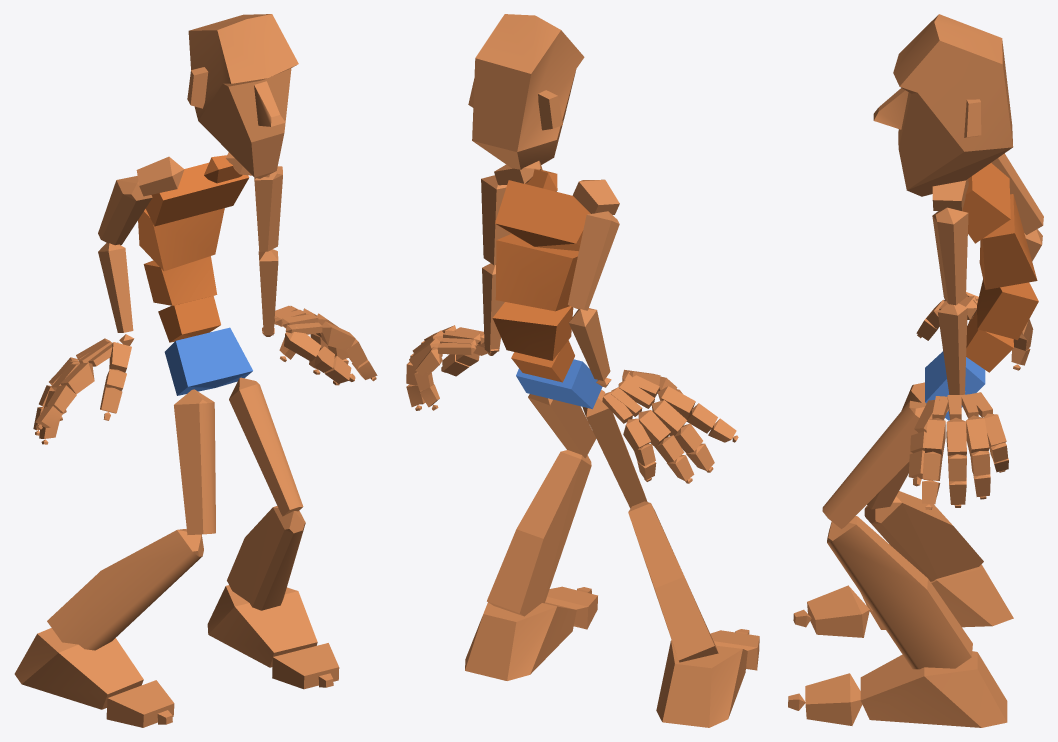
The model's file is personaje35.obj.
3 views of the same model, side by side, from view 1: azimuth 30°, elevation 25°; view 2: azimuth 150°, elevation 25°; view 3: azimuth 270°, elevation 25° (orthographic). The views are drawn at different scales.
Parts seen in each view (by area): view 1: BOPED_Head, BOPED_R_leg, BOPED_R_foot, BOPED_R_foot01, BOPED_L_leg, BOPED_R_legup, BOPED_L_legup, Bone01, Bone04, Bone05, Bone03, BOPED_R_arm_upper (+11 smaller); view 2: BOPED_Head, BOPED_L_leg, BOPED_R_foot01, BOPED_R_foot, BOPED_R_leg, Bone04, Bone05, Bone03, BOPED_R_arm_upper, BOPED_R_legup, Bone01, BOPED_L_legup (+12 smaller); view 3: BOPED_Head, BOPED_L_leg, BOPED_R_foot01, BOPED_R_leg, BOPED_L_legup, BOPED_R_foot, Bone04, Bone05, BOPED_L_arm_upper, Bone03, BOPED_R_foot_toe01, BOPED_R_foot_toe04 (+13 smaller).
Part boxes in pixels (x1=…): BOPED_Head: x1=187, y1=14, x2=298, y2=178; BOPED_R_leg: x1=47, y1=529, x2=203, y2=650; BOPED_R_foot: x1=14, y1=628, x2=143, y2=709; BOPED_R_foot01: x1=207, y1=585, x2=317, y2=667; BOPED_L_leg: x1=227, y1=506, x2=305, y2=610; BOPED_R_legup: x1=174, y1=389, x2=215, y2=534; BOPED_L_legup: x1=229, y1=377, x2=303, y2=516; Bone01: x1=164, y1=327, x2=252, y2=395; Bone04: x1=138, y1=208, x2=224, y2=271; Bone05: x1=145, y1=162, x2=249, y2=226; Bone03: x1=143, y1=256, x2=217, y2=305; BOPED_R_arm_upper: x1=98, y1=176, x2=152, y2=245; BOPED_Head: x1=468, y1=14, x2=584, y2=169; BOPED_L_leg: x1=487, y1=450, x2=591, y2=616; BOPED_R_foot01: x1=465, y1=602, x2=576, y2=680; BOPED_R_foot: x1=656, y1=640, x2=747, y2=727; BOPED_R_leg: x1=628, y1=501, x2=718, y2=662; Bone04: x1=495, y1=234, x2=578, y2=311; Bone05: x1=495, y1=180, x2=590, y2=251; Bone03: x1=492, y1=302, x2=573, y2=360; BOPED_R_arm_upper: x1=568, y1=211, x2=619, y2=310; BOPED_R_legup: x1=582, y1=390, x2=647, y2=508; Bone01: x1=516, y1=359, x2=602, y2=409; BOPED_L_legup: x1=528, y1=394, x2=596, y2=458; BOPED_Head: x1=873, y1=14, x2=1013, y2=196; BOPED_L_leg: x1=827, y1=516, x2=972, y2=669; BOPED_R_foot01: x1=860, y1=651, x2=1007, y2=727; BOPED_R_leg: x1=864, y1=491, x2=983, y2=581; BOPED_L_legup: x1=822, y1=400, x2=926, y2=528; BOPED_R_foot: x1=860, y1=564, x2=1013, y2=629; Bone04: x1=979, y1=194, x2=1037, y2=289; Bone05: x1=962, y1=163, x2=1010, y2=243; BOPED_L_arm_upper: x1=932, y1=207, x2=968, y2=305; Bone03: x1=977, y1=279, x2=1038, y2=340; BOPED_R_foot_toe01: x1=807, y1=585, x2=869, y2=637; BOPED_R_foot_toe04: x1=805, y1=673, x2=862, y2=725.
Bounding box in the file's own units: 94.17 × 169 × 57.63.
